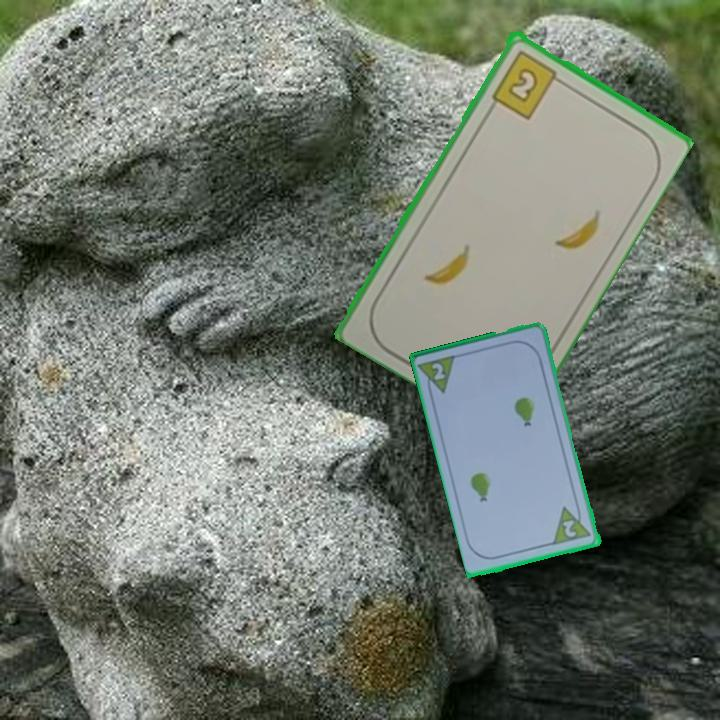2b: (488, 46, 567, 122)
2p: (416, 351, 460, 399), (559, 517, 580, 540)
